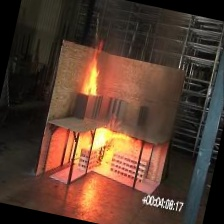fire: (74, 112, 138, 177), (68, 35, 122, 107)
